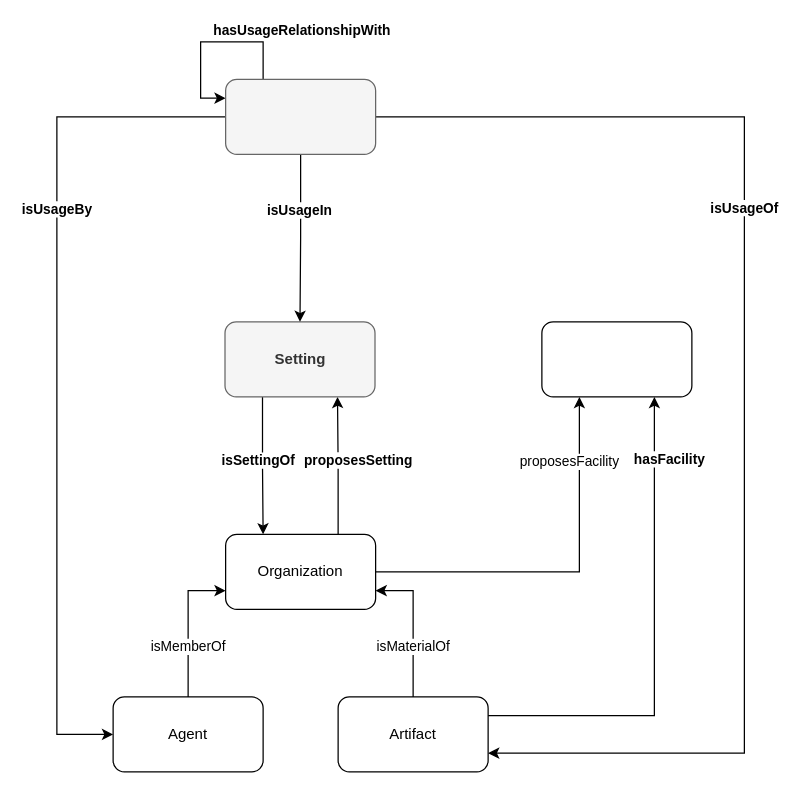
This 799x794 diagram has some shape labels left out. Each missing label, with the centre of its shape:
Facility: pixel 616 359
Usage: pixel 300 116
